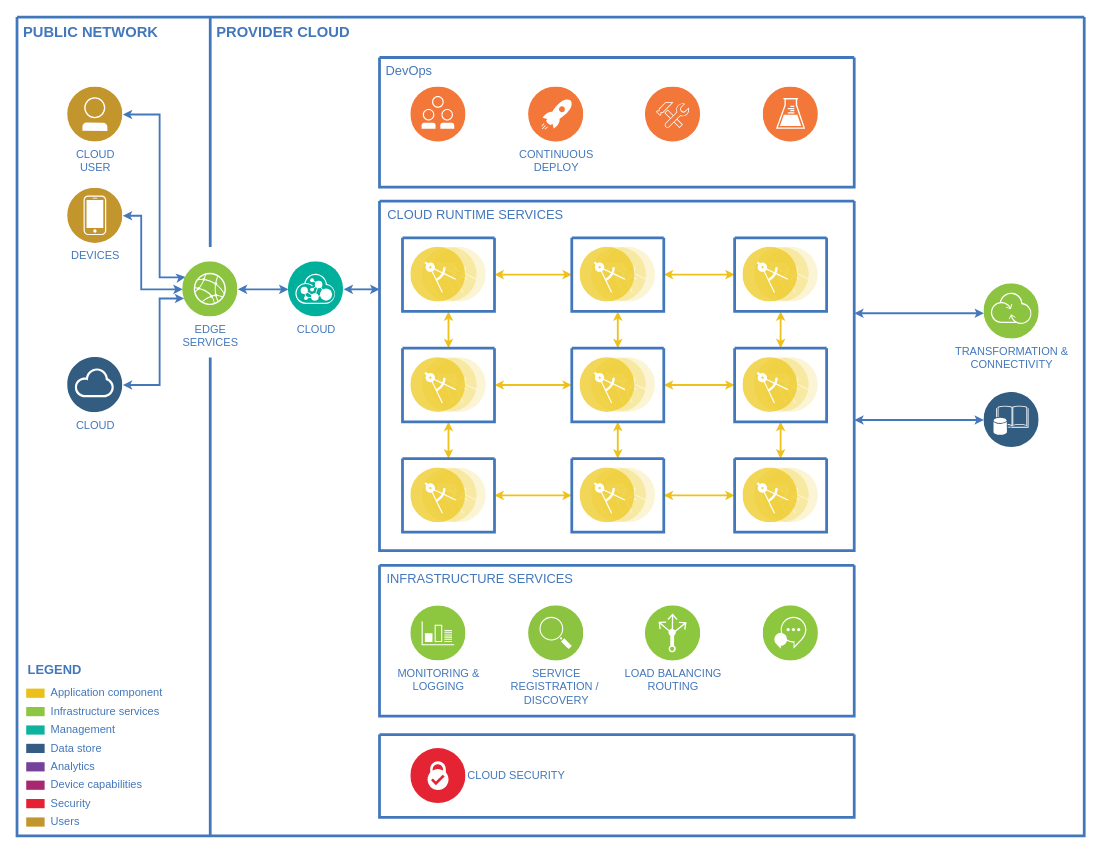
This 1101x853 diagram has some shape labels left out. The box of each missing label's shape, as (x1, y1, x2, y2) in pixels:
CLOUD DATA SERVICES: (983, 392, 1039, 447)
COLLABORATIVE DEVELOPMENT: (410, 86, 466, 142)
CONFIGURATION MANAGEMENT: (645, 86, 700, 142)
CONTINUOUS TESTING: (763, 86, 818, 142)
INTERSERVICE COMMUNICATION: (763, 605, 818, 661)
